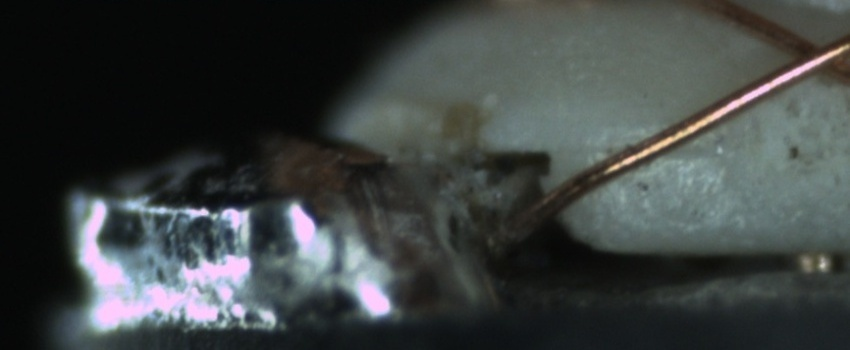CL: (763, 22, 848, 89)
DL: (575, 121, 723, 181)
